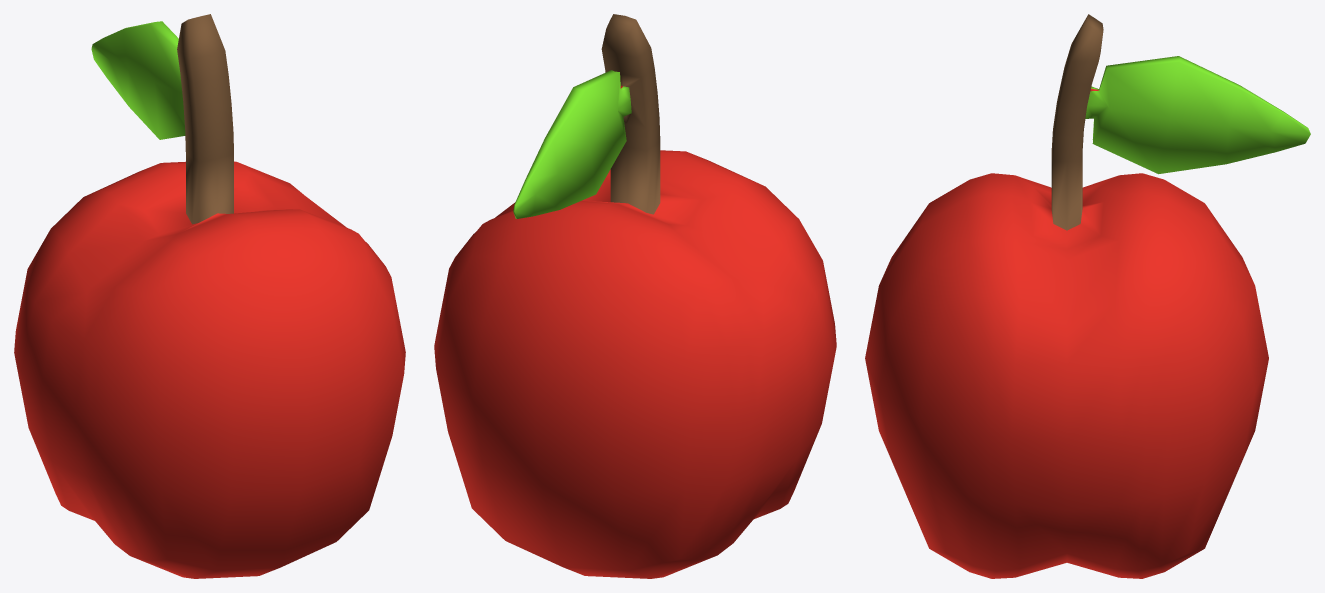
Rendered from Asset_06_manzana.fbx.
3 views of the same model, side by side, from view 1: azimuth 30°, elevation 25°; view 2: azimuth 150°, elevation 25°; view 3: azimuth 270°, elevation 25° (orthographic). The views are drawn at different scales.
Parts seen in each view (by area): view 1: Cube; view 2: Cube; view 3: Cube.
Boxes of the visible parts, x1=… form: Cube: x1=14, y1=14, x2=405, y2=578; Cube: x1=434, y1=14, x2=836, y2=578; Cube: x1=865, y1=14, x2=1310, y2=578.
Bounding box in the file's own units: 294 × 434 × 325.
